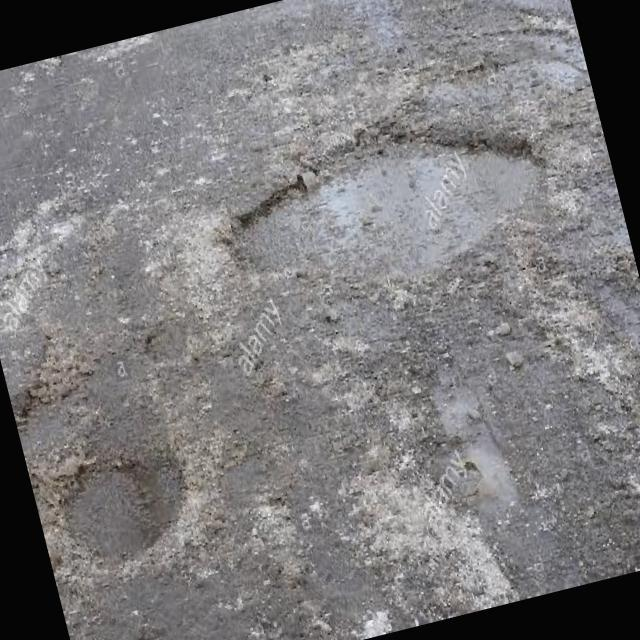Lubang: (229, 119, 535, 280), (68, 461, 181, 558)
